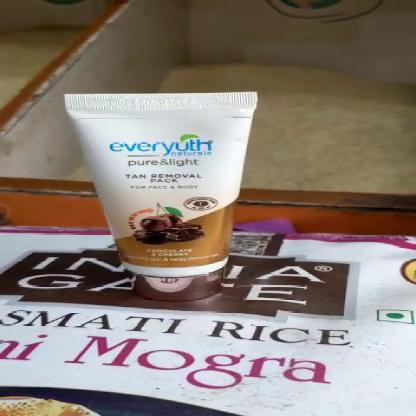EY TAN CHOCO CHERRY PACK 50G: (68, 95, 256, 301)
